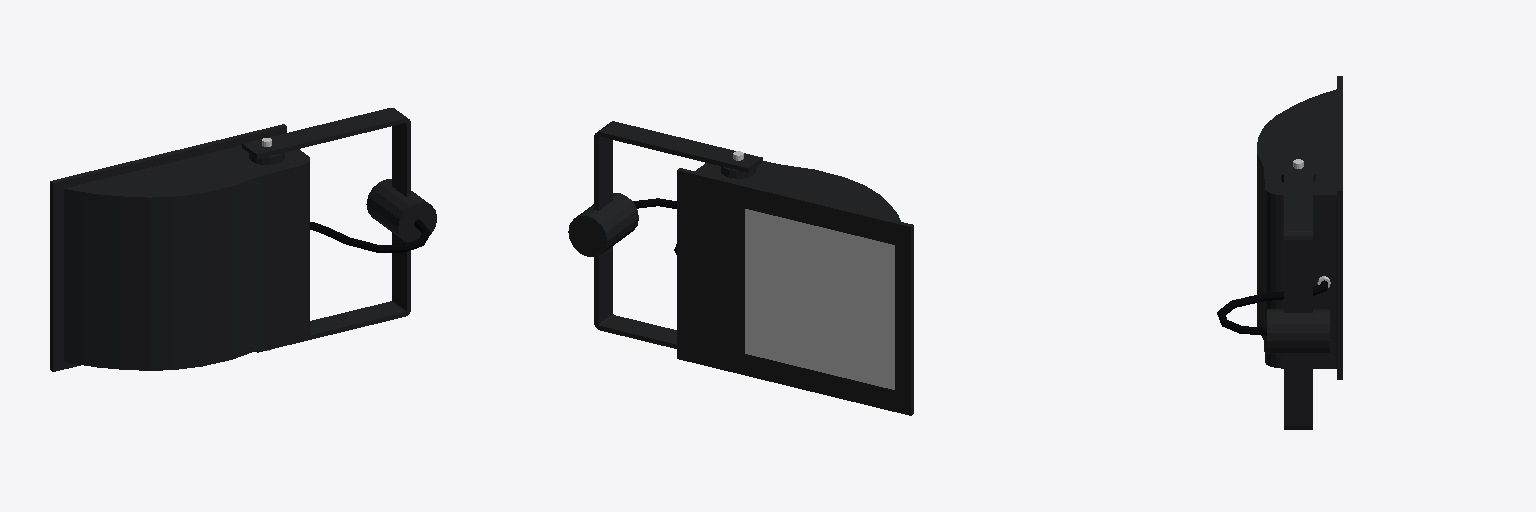
3 views of the same model, side by side, from view 1: azimuth 30°, elevation 25°; view 2: azimuth 150°, elevation 25°; view 3: azimuth 270°, elevation 25° (orthographic).
Parts seen in each view (by area): view 1: Gehaeuse_Mesh, Halterung_BezierCurve.002, Mastrohr_Cylinder, Kabel.001_BezierCurve.004; view 2: Gehaeuse_Mesh, Halterung_BezierCurve.002, Mastrohr_Cylinder; view 3: Gehaeuse_Mesh, Halterung_BezierCurve.002, Mastrohr_Cylinder, Kabel.001_BezierCurve.004.
Part boxes in pixels (x1,y1,x2,y2): Gehaeuse_Mesh: (50, 124, 309, 371); Halterung_BezierCurve.002: (242, 108, 410, 352); Mastrohr_Cylinder: (366, 179, 436, 242); Kabel.001_BezierCurve.004: (310, 219, 430, 252); Gehaeuse_Mesh: (677, 161, 913, 415); Halterung_BezierCurve.002: (594, 121, 762, 348); Mastrohr_Cylinder: (568, 193, 638, 256); Gehaeuse_Mesh: (1257, 76, 1342, 379); Halterung_BezierCurve.002: (1284, 158, 1312, 429); Mastrohr_Cylinder: (1267, 309, 1329, 353); Kabel.001_BezierCurve.004: (1217, 280, 1327, 335).
Size of the model in its own units: 0.7605 by 0.4345 by 0.2377.
5 materials, 3 textured.